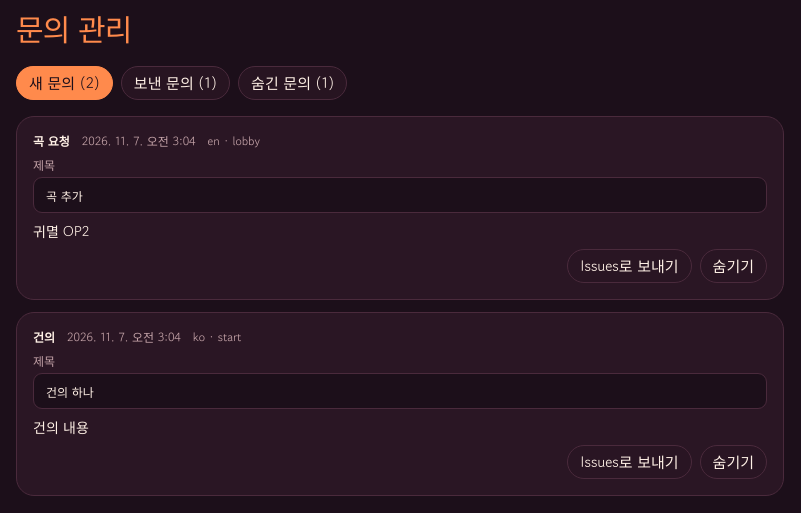
Test case: the list › the sent tab shows the #N link opening in a new tab
The image size is (801, 513).
Click the tab "보낸 문의 (1)" at (175, 83), box top-left (121, 66), bottom-right (230, 100)
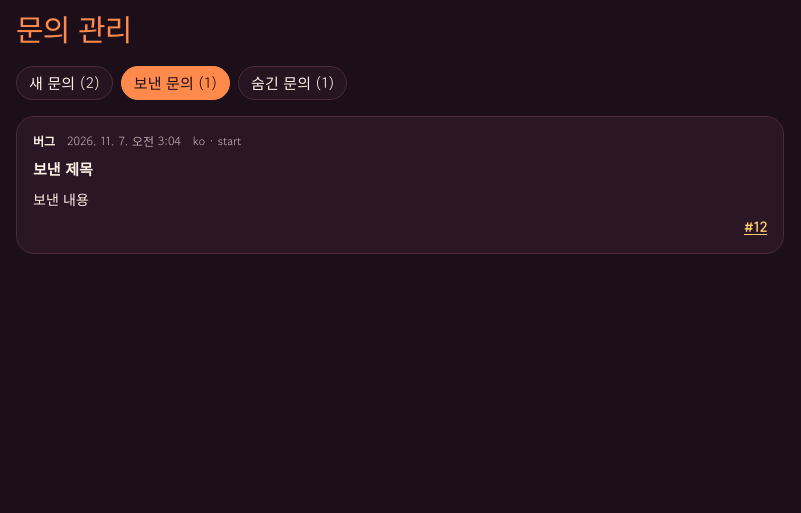
Result: the text "보낸 내용" is shown at top-left (33, 189), bottom-right (89, 209)
Result: the text "보낸 제목" is shown at top-left (33, 158), bottom-right (93, 179)
Result: the button "Issues로 보내기" is gone
